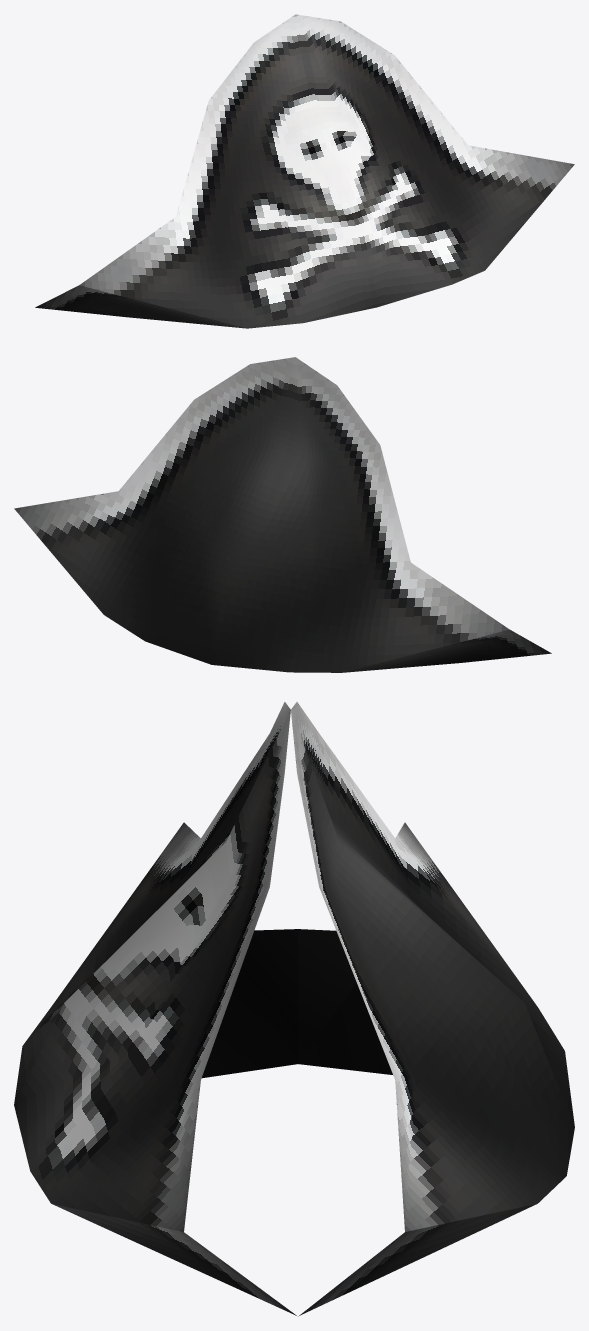
Rendered from tt_m_chr_avt_acc_hat_pirateHat.glb.
3 renders of one model, top to bottom at view 1: azimuth 30°, elevation 25°; view 2: azimuth 150°, elevation 25°; view 3: azimuth 270°, elevation 25°, orthographic. The views are drawn at different scales.
Visible parts, largest first — view 1: pirateHat; view 2: pirateHat; view 3: pirateHat.
Part boxes in pixels (x1,y1,x2,y2): pirateHat: (35,14,574,328); pirateHat: (14,357,551,672); pirateHat: (14,702,574,1316).
Bounding box in the file's own units: 6.39 × 3.1 × 3.54.
Materials: 1 (1 with a texture image).
